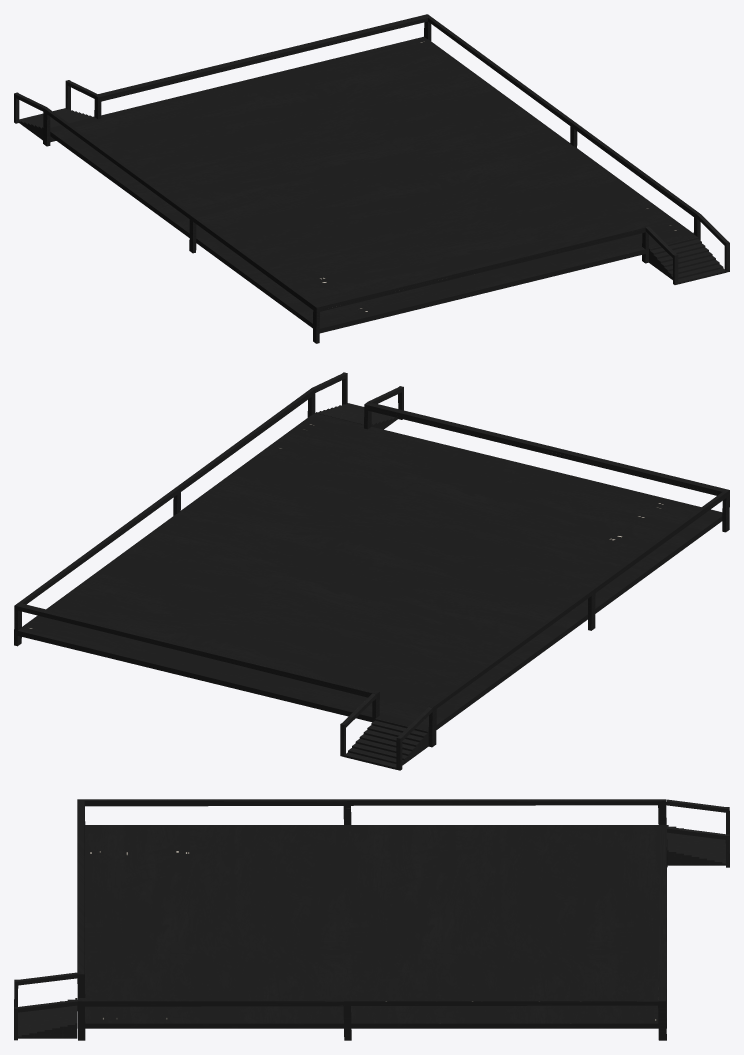
Rendered from stage.fbx.
3 views of the same model, one above another, from view 1: azimuth 30°, elevation 25°; view 2: azimuth 150°, elevation 25°; view 3: azimuth 270°, elevation 25° (orthographic). The views are drawn at different scales.
Parts seen in each view (by area): view 1: Cube.010; view 2: Cube.010; view 3: Cube.010.
Part boxes in pixels (bbox=[...]): Cube.010: bbox=[14, 14, 729, 343]; Cube.010: bbox=[14, 372, 729, 770]; Cube.010: bbox=[14, 799, 729, 1040].
Bounding box in the file's own units: 778 × 70.39 × 1165.
2 materials, 2 textured.
